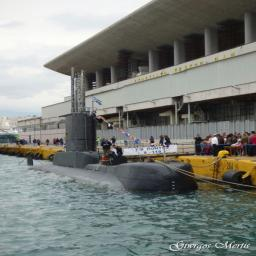submarine: (25, 68, 204, 193)
